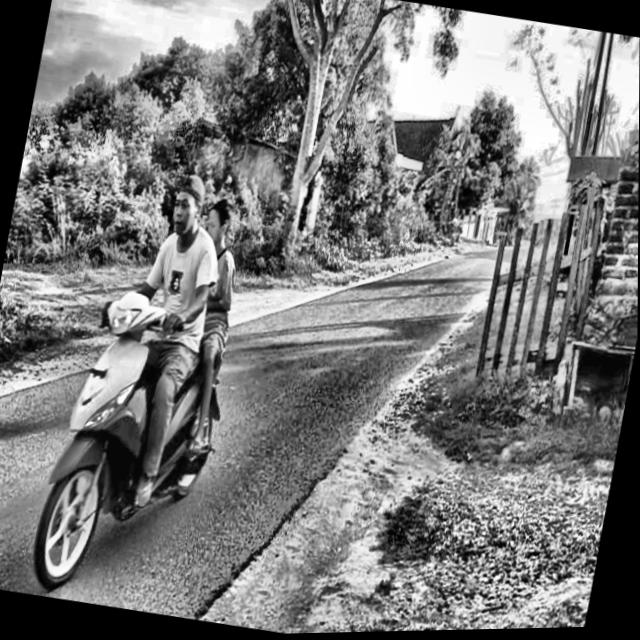motorcycle: (0, 282, 255, 612)
